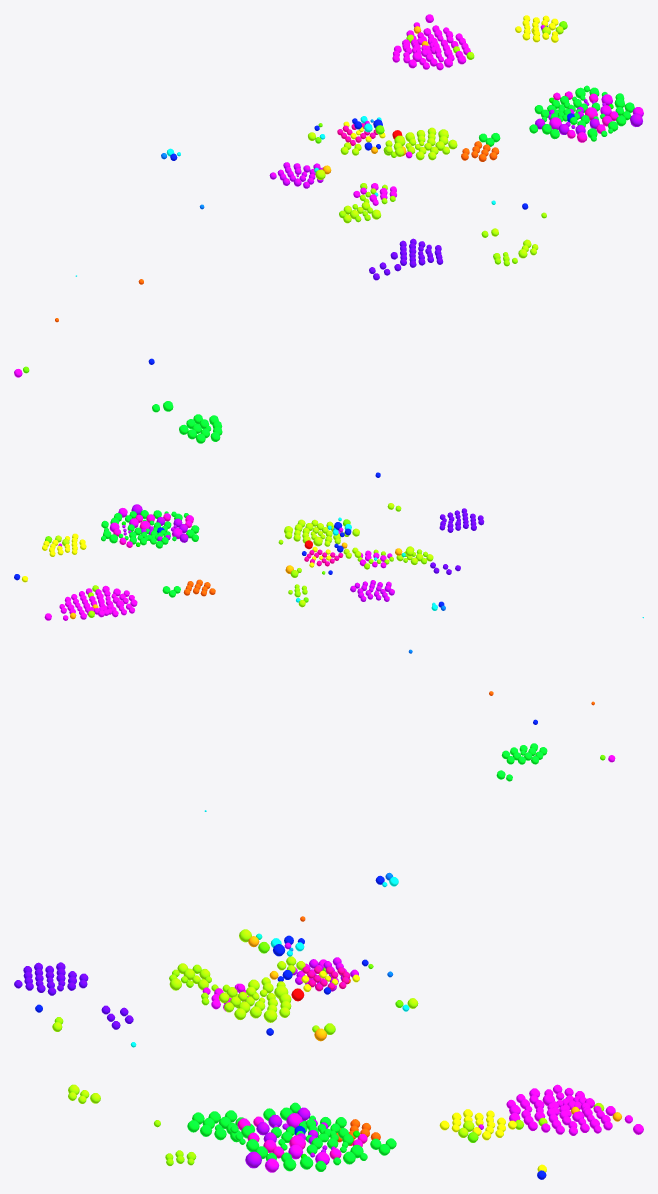
The model's file is task-3bf9a215a-layout.gltf.
3 renders of one model, top to bottom at view 1: azimuth 30°, elevation 25°; view 2: azimuth 150°, elevation 25°; view 3: azimuth 270°, elevation 25°, orthographic. The views are drawn at different scales.
Visible parts, largest first — view 1: normal_avif_files, normal_cc_files, normal_c_files, normal_yml_files, normal_h_files, normal_sh_files, normal_cmake_files, normal_png_files, normal_jpg_files; view 2: normal_avif_files, normal_cc_files, normal_c_files, normal_yml_files, normal_h_files, normal_sh_files, normal_cmake_files, normal_png_files, normal_jpg_files; view 3: normal_avif_files, normal_c_files, normal_cc_files, normal_yml_files, normal_sh_files, normal_h_files, normal_png_files, normal_jpg_files, normal_md_files, normal_cmd_files, normal_y4m_files, normal_cmake_files.
Part boxes in pixels (x1,y1,x2,y2): normal_avif_files: (152, 85, 634, 443); normal_cc_files: (14, 14, 470, 377); normal_c_files: (308, 26, 563, 258); normal_yml_files: (369, 238, 443, 280); normal_h_files: (339, 34, 546, 266); normal_sh_files: (343, 15, 558, 142); normal_cmake_files: (269, 25, 544, 188); normal_png_files: (535, 99, 642, 134); normal_jpg_files: (553, 91, 618, 142); normal_avif_files: (101, 510, 547, 781); normal_cc_files: (44, 530, 615, 762); normal_c_files: (55, 503, 433, 607); normal_yml_files: (430, 508, 484, 574); normal_h_files: (88, 505, 427, 617); normal_sh_files: (22, 533, 331, 582); normal_cmake_files: (58, 527, 394, 601); normal_png_files: (122, 504, 188, 542); normal_jpg_files: (113, 513, 193, 547); normal_avif_files: (187, 1102, 396, 1171); normal_c_files: (52, 929, 474, 1137); normal_cc_files: (202, 959, 643, 1135); normal_yml_files: (14, 962, 133, 1029); normal_sh_files: (301, 970, 546, 1172); normal_h_files: (54, 964, 604, 1165); normal_png_files: (245, 1107, 335, 1168); normal_jpg_files: (237, 1116, 367, 1159); normal_md_files: (35, 875, 546, 1179); normal_cmd_files: (302, 966, 350, 991); normal_y4m_files: (265, 1113, 329, 1172); normal_cmake_files: (284, 942, 483, 1129).
Bounding box in the file's own units: 226 × 86.33 × 161.
